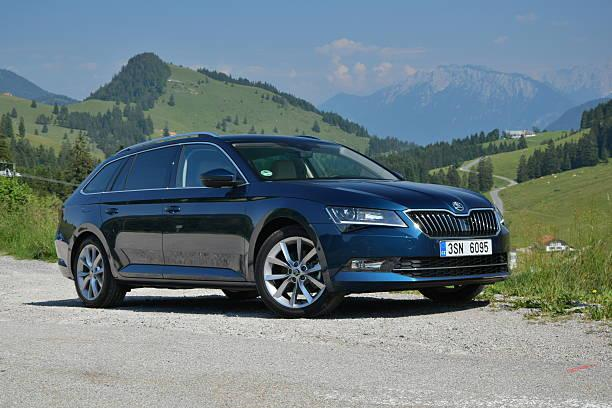skoda: (449, 197, 468, 215)
